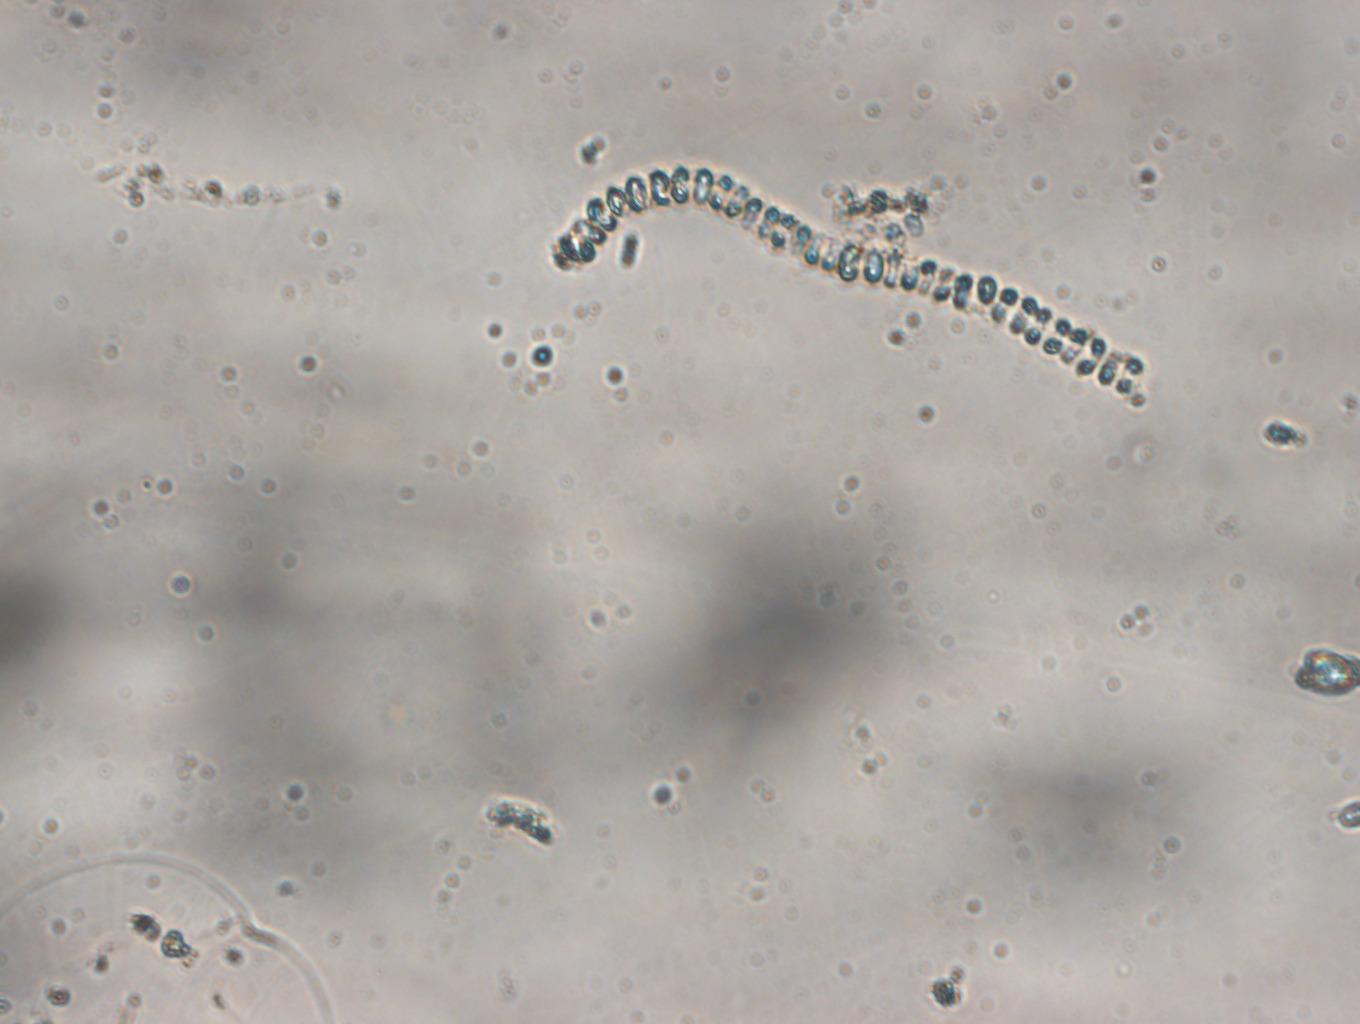skeletonema: (544, 157, 1153, 403)
